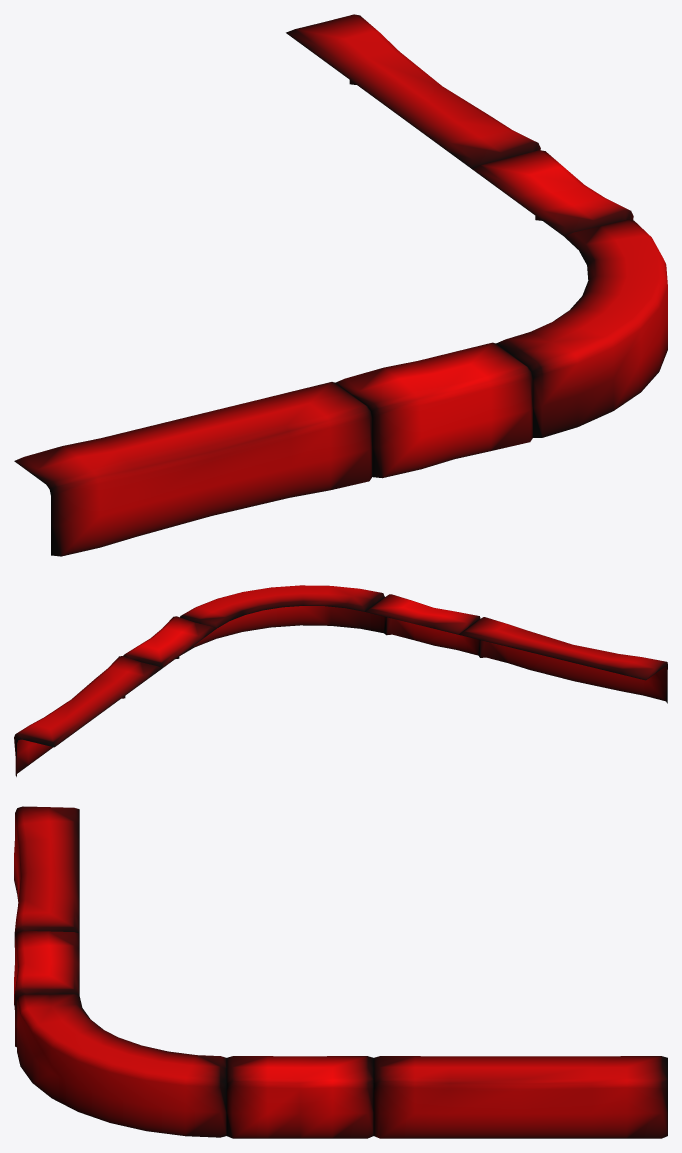
Rendered from curb_outer_corner_0.5_a.fbx.
The picture shows the model from 3 angles, top to bottom: view 1: azimuth 30°, elevation 25°; view 2: azimuth 150°, elevation 25°; view 3: azimuth 270°, elevation 25°; orthographic projection. The views are drawn at different scales.
Visible parts, largest first — view 1: curb_outer_corner_0.5_a; view 2: curb_outer_corner_0.5_a; view 3: curb_outer_corner_0.5_a.
Part boxes in pixels (<box>): curb_outer_corner_0.5_a: <box>14,14,667,556</box>; curb_outer_corner_0.5_a: <box>14,585,667,776</box>; curb_outer_corner_0.5_a: <box>14,806,667,1138</box>.
Size of the model in its own units: 2.23 by 0.2239 by 2.22.
